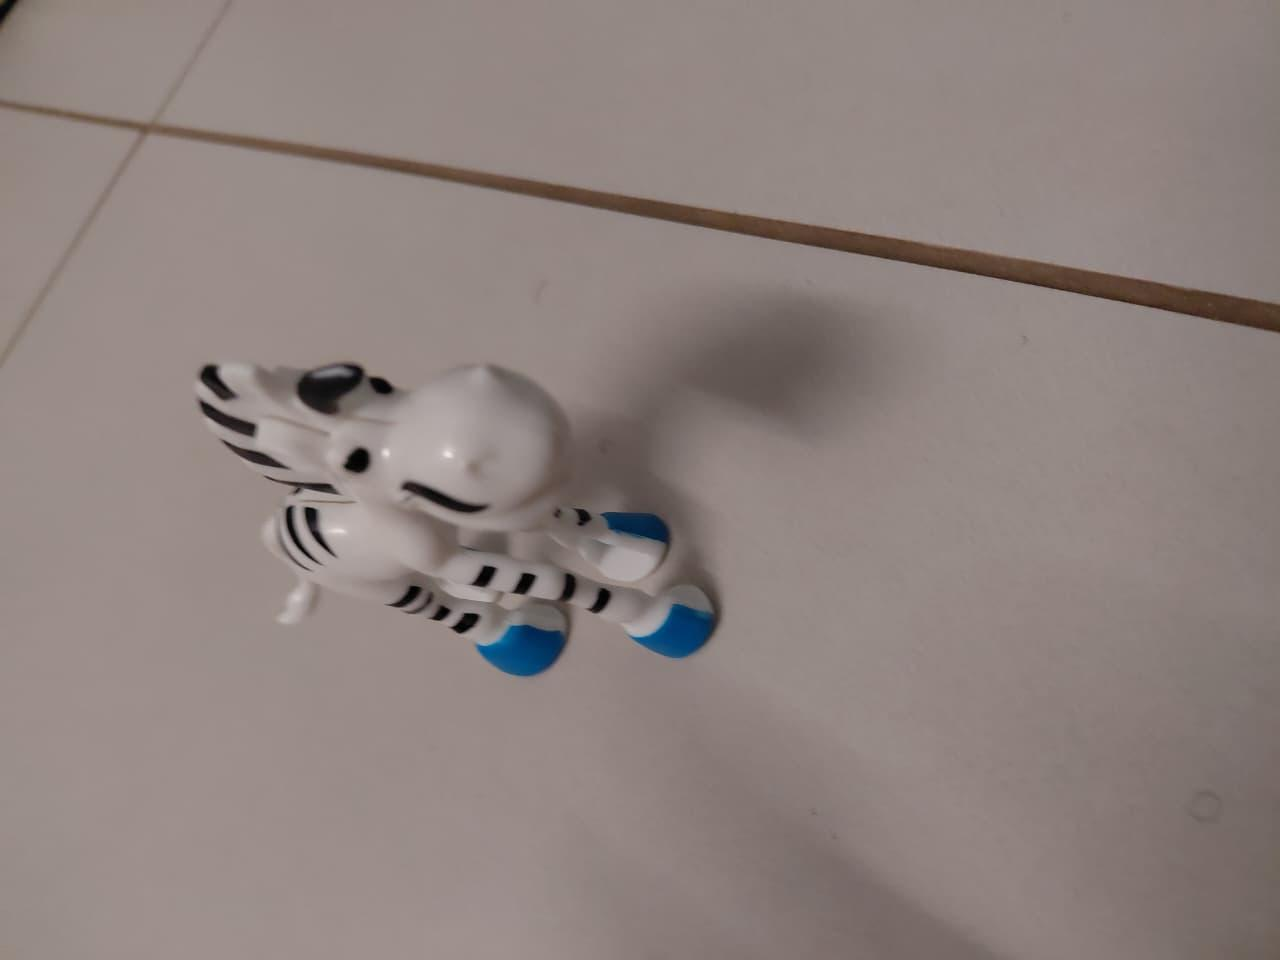zebra: (126, 254, 921, 768)
